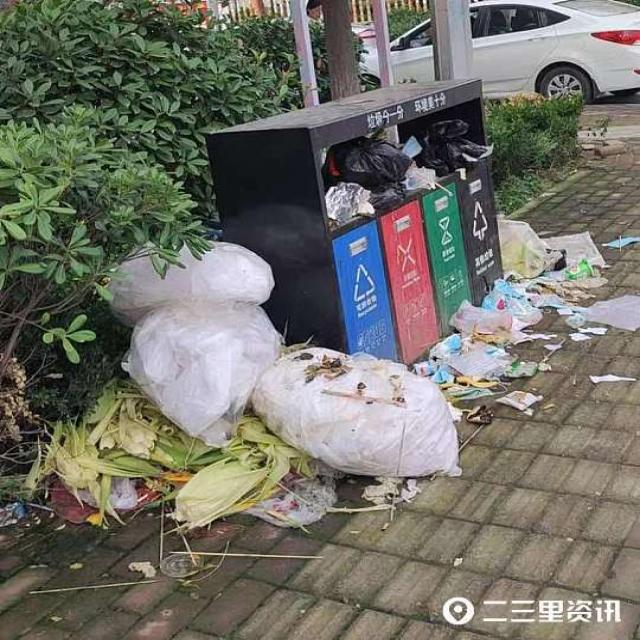garbage: (0, 212, 639, 530)
overflow: (200, 77, 504, 368)
